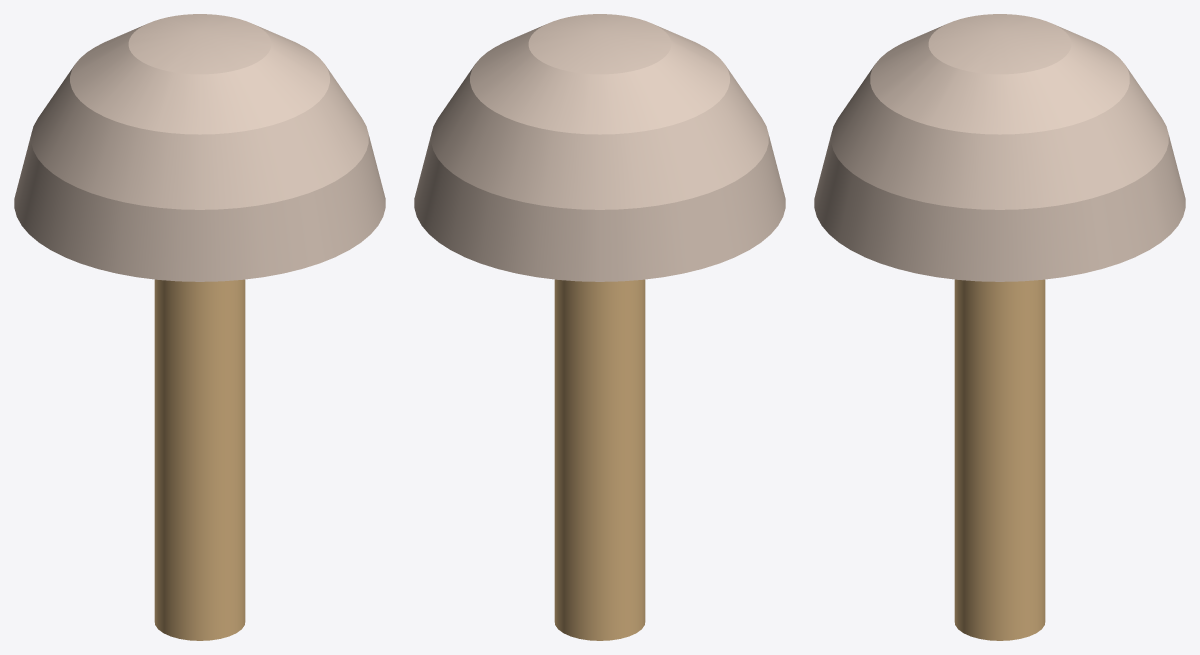
3 views of the same model, side by side, from view 1: azimuth 30°, elevation 25°; view 2: azimuth 150°, elevation 25°; view 3: azimuth 270°, elevation 25° (orthographic).
Visible parts, largest first — view 1: dome, stem; view 2: dome, stem; view 3: dome, stem.
Part boxes in pixels (bbox=[...]): dome: bbox=[14, 14, 385, 281]; stem: bbox=[154, 279, 245, 640]; dome: bbox=[414, 14, 785, 281]; stem: bbox=[554, 279, 645, 640]; dome: bbox=[814, 14, 1185, 281]; stem: bbox=[954, 279, 1045, 640].
Size of the model in its own units: 0.0572 by 0.1 by 0.0571.
